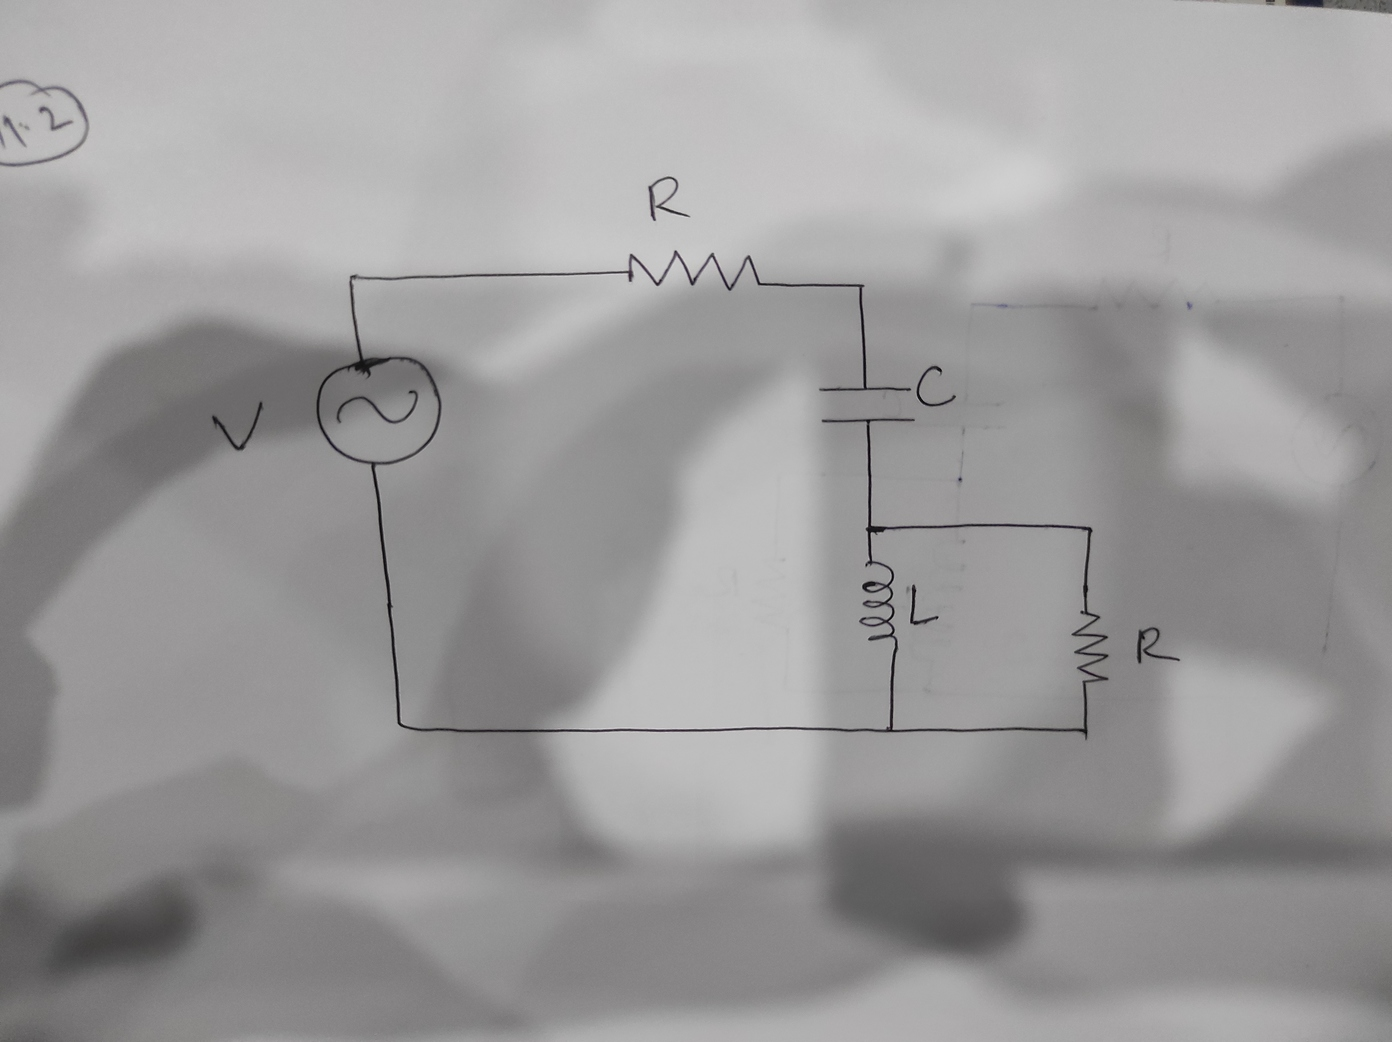capacitor.unpolarized: (815, 378, 914, 430)
inductor: (856, 558, 904, 648)
junction: (338, 264, 371, 297), (875, 716, 904, 745), (388, 711, 411, 737), (1074, 721, 1092, 745), (850, 277, 872, 297), (861, 522, 888, 537), (1080, 521, 1098, 539)
resistor: (617, 241, 770, 296), (1070, 605, 1113, 688)
text: (210, 400, 266, 455), (1133, 622, 1188, 669), (645, 172, 693, 224), (915, 361, 956, 409), (906, 580, 942, 628)
voltage.dc_ac: (305, 352, 445, 470)
